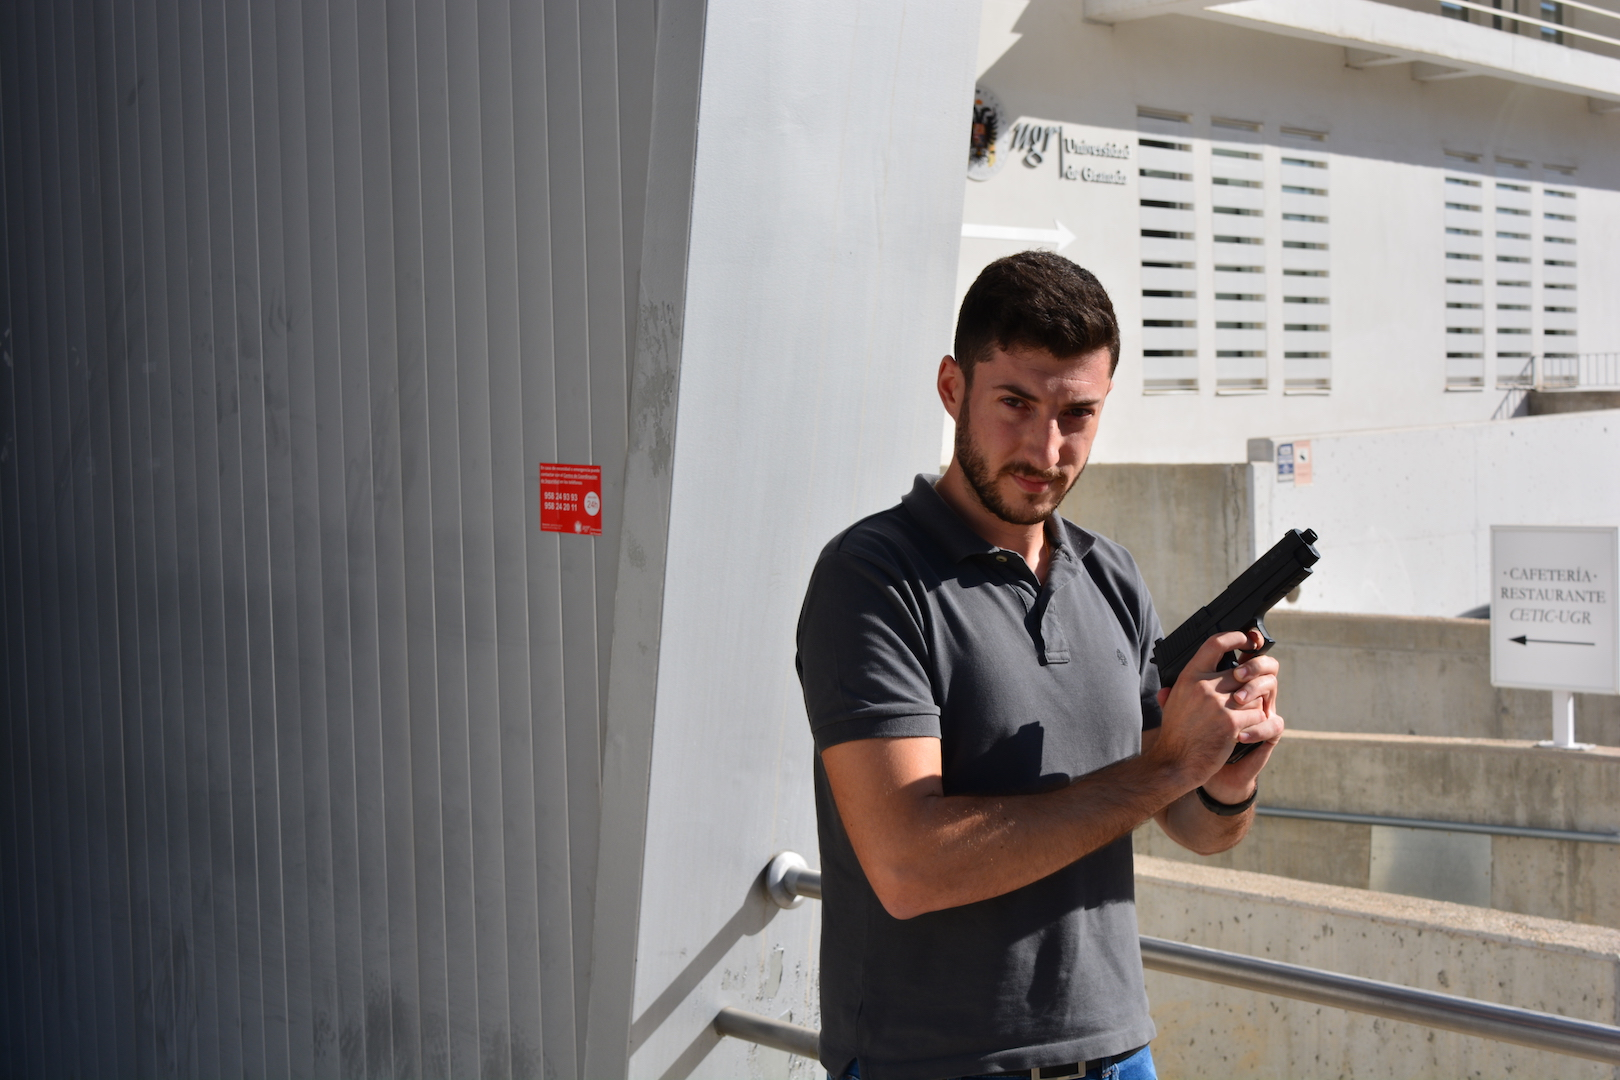pistol: (1149, 526, 1322, 765)
